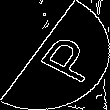P_NW: (17, 26, 93, 84)
